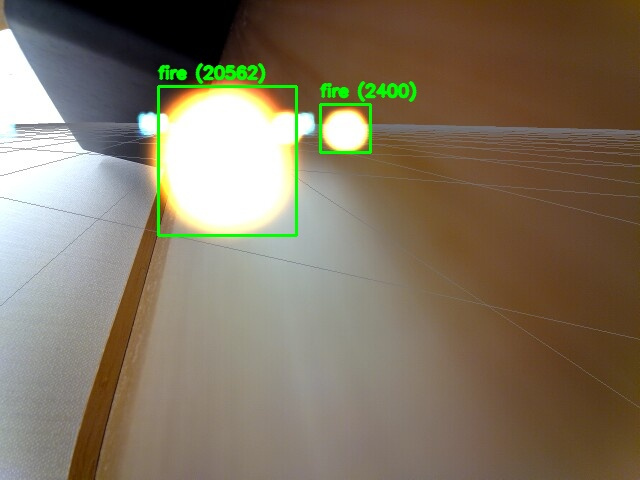fire: (158, 86, 296, 235), (320, 104, 370, 152)
